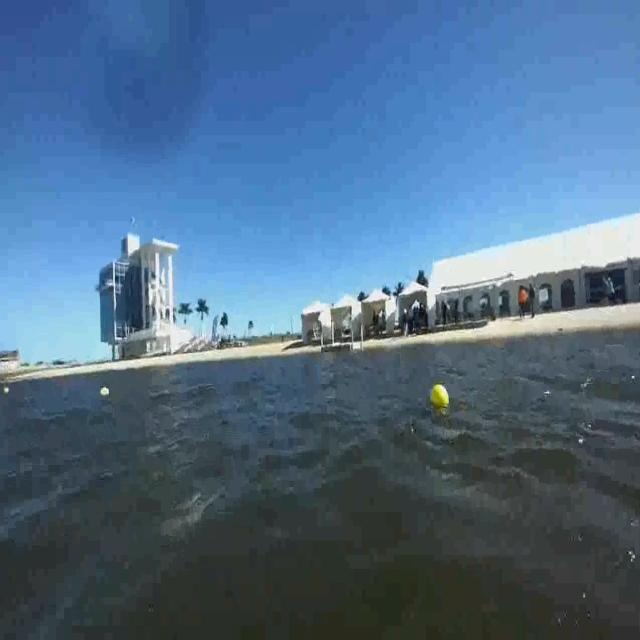yellow-buoy: (429, 380, 449, 407)
